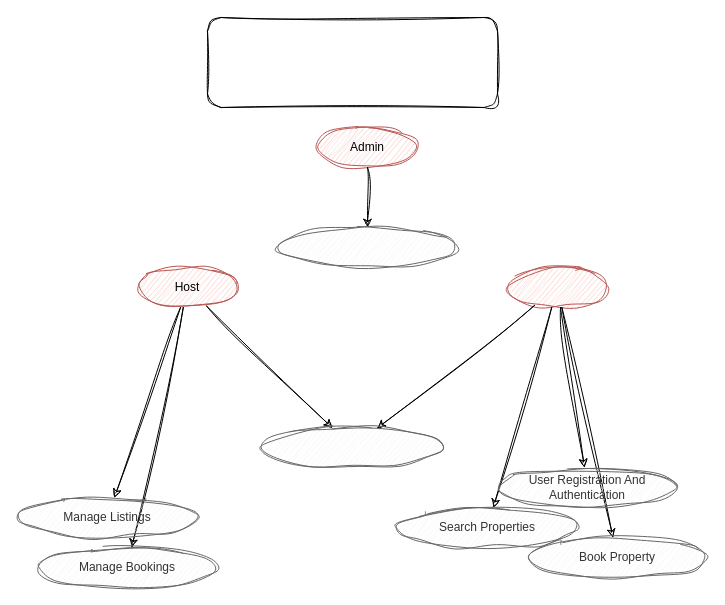
Some shapes in this 725 by 605 pixel diagram are drawn without their labels. Here are the shapes that lost their labels. From the top down, the centre of each, then its label:
At point (352, 62): "Use Case Diagram of the Features and Functionalities".
At point (367, 247): "Admin Dashboard".
At point (557, 287): "Guest".
At point (352, 447): "Payments".
